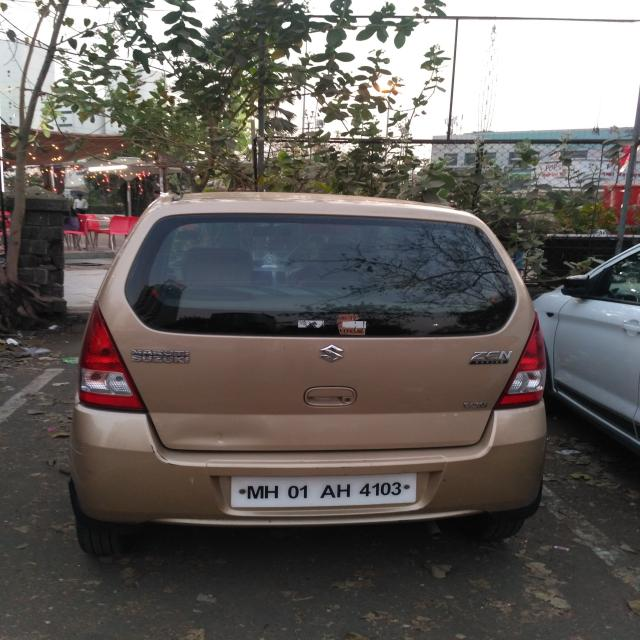Number-Plate: (235, 473, 415, 509)
